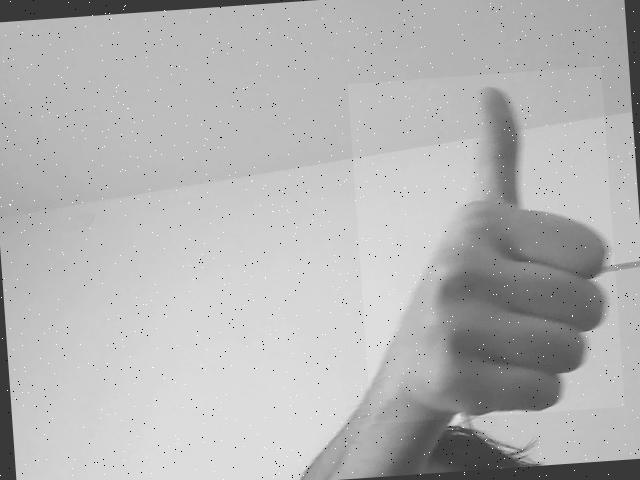good: (366, 75, 617, 415)
